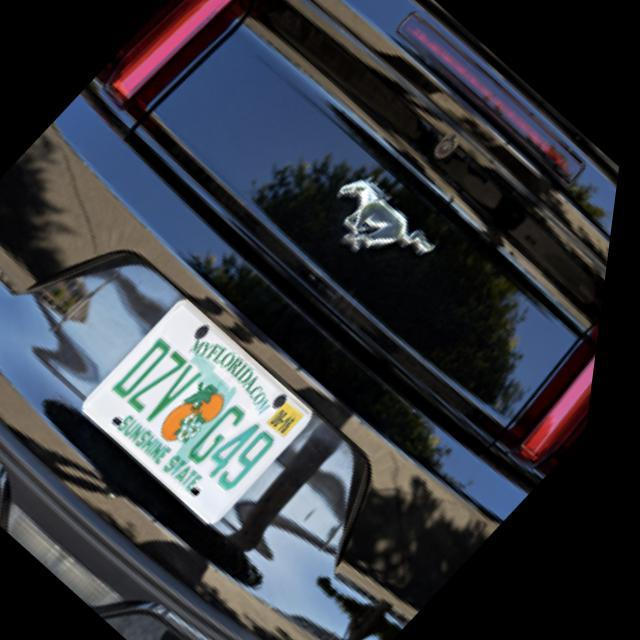license_plate: (78, 296, 336, 526)
